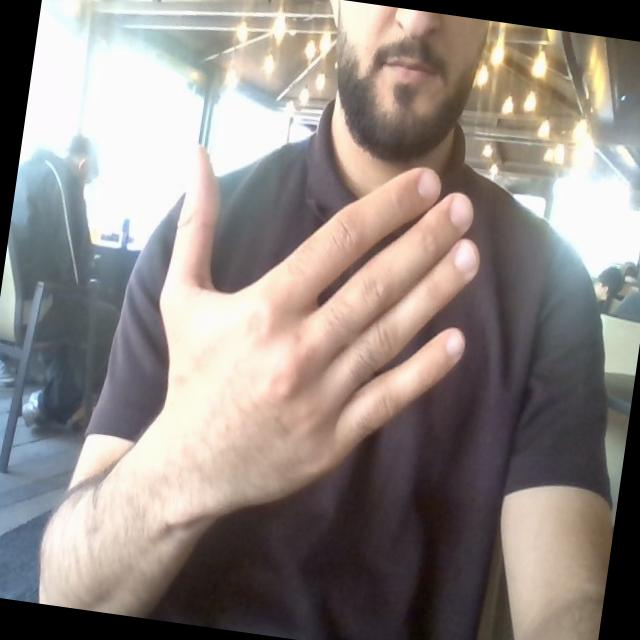Hand: (160, 149, 478, 514)
